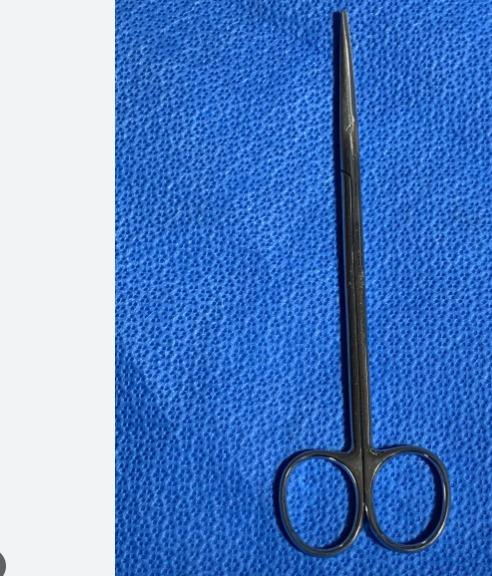Metzenbaum Sciccors: (268, 6, 455, 560)
